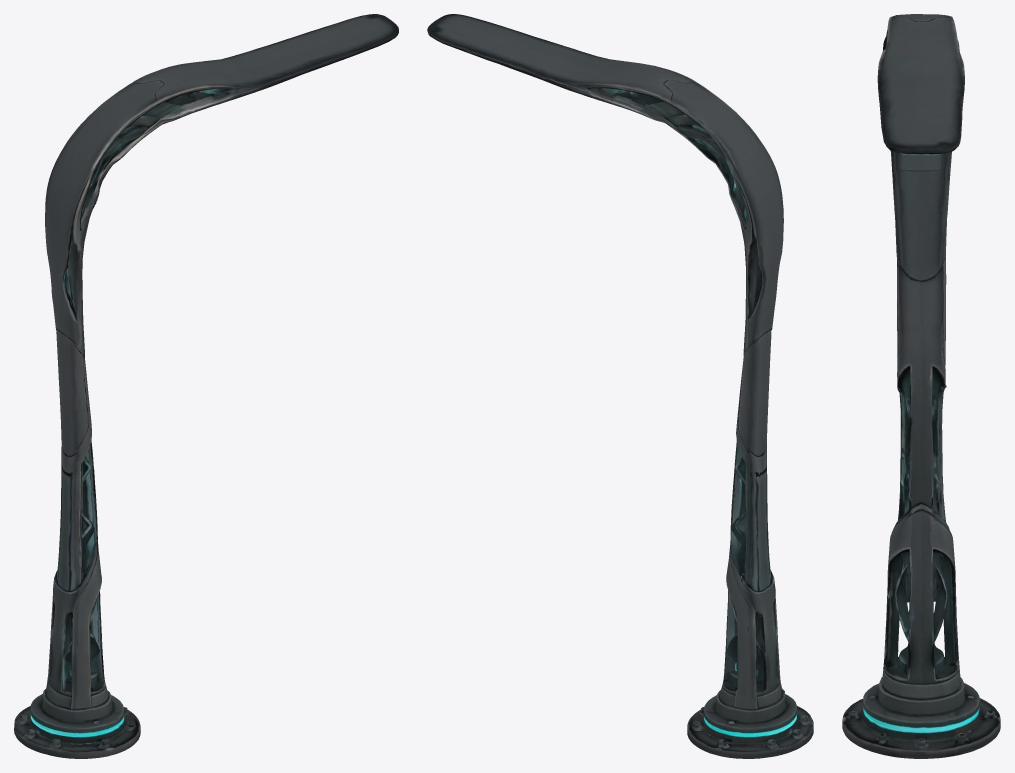
The model's file is lamp-a.glb.
3 views of the same model, side by side, from view 1: azimuth 30°, elevation 25°; view 2: azimuth 150°, elevation 25°; view 3: azimuth 270°, elevation 25° (orthographic). The views are drawn at different scales.
Visible parts, largest first — view 1: SM_lamp_a; view 2: SM_lamp_a; view 3: SM_lamp_a.
Boxes of the visible parts, x1,y1,x2,y2 form: SM_lamp_a: [14, 14, 398, 758]; SM_lamp_a: [427, 14, 813, 758]; SM_lamp_a: [842, 14, 1000, 758].
Bounding box in the file's own units: 0.5956 × 0.9787 × 0.1841.
1 material, 1 textured.
